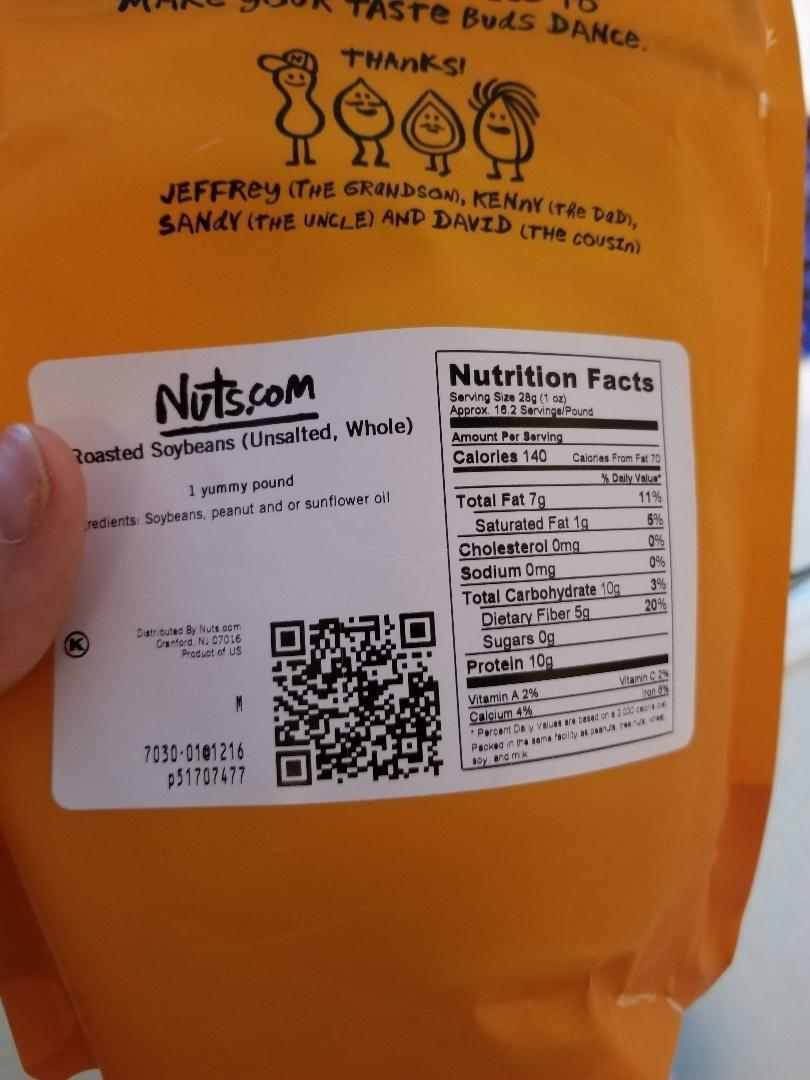qr_code: (269, 610, 444, 787)
